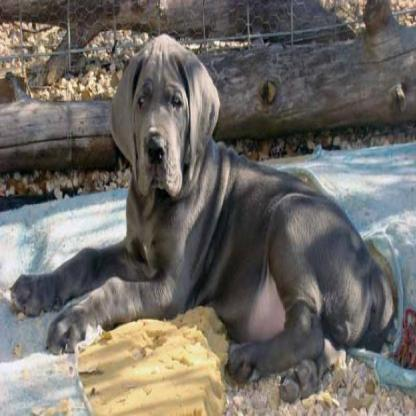Great_Dane: (10, 33, 393, 390)
